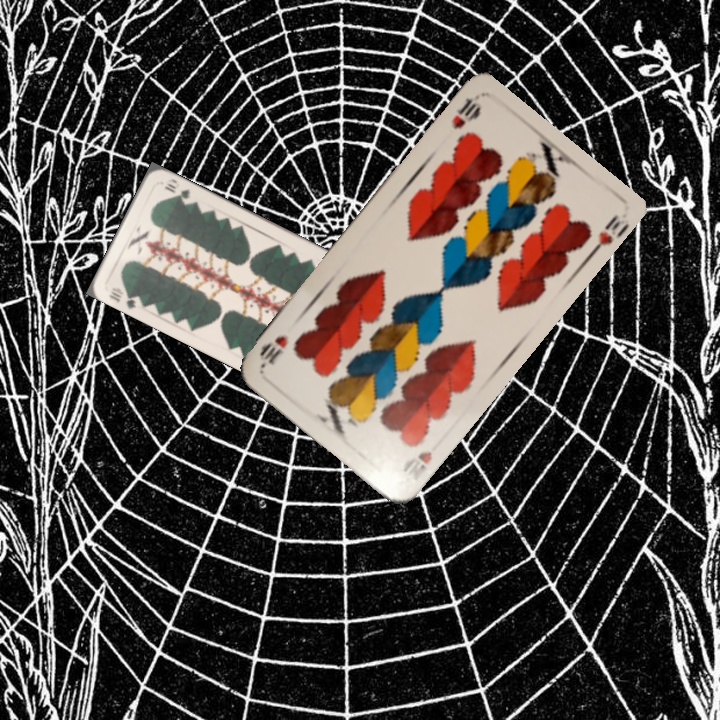G10: (104, 283, 139, 311)
H10: (447, 92, 484, 132), (398, 447, 435, 475)
